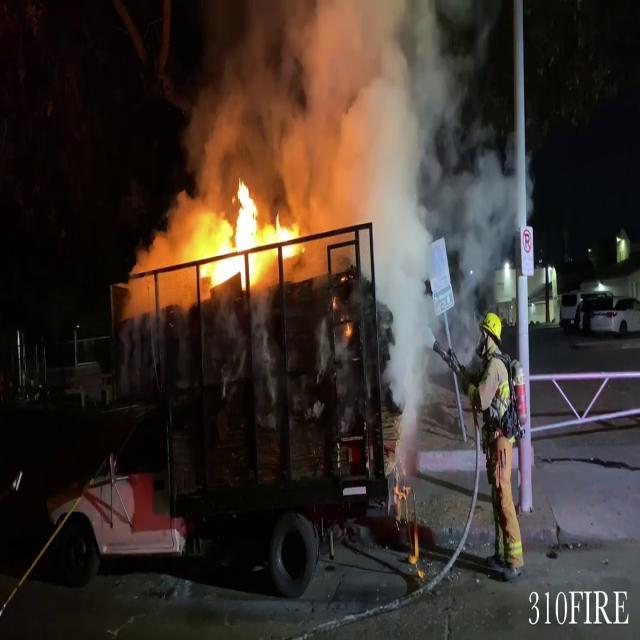Fire: (195, 178, 302, 296)
Smoke: (178, 0, 481, 264)
